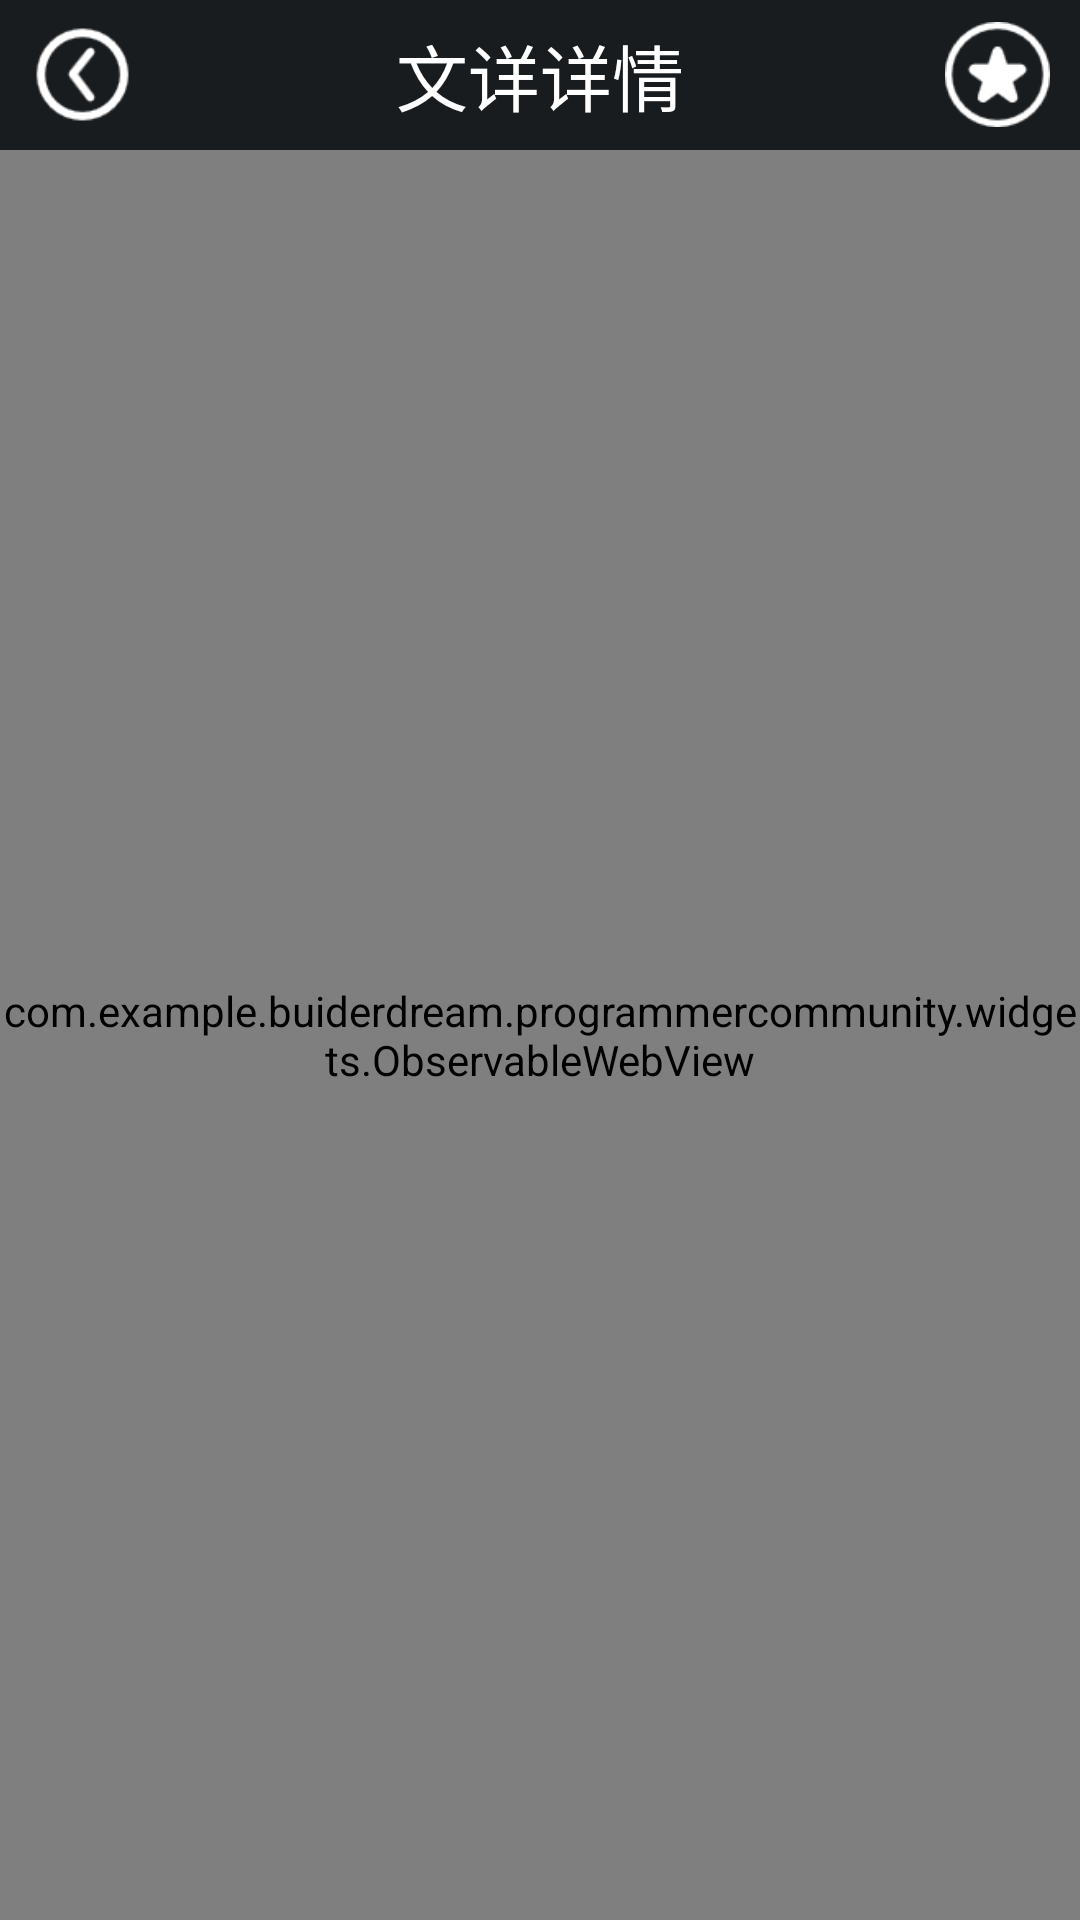

Icon click points for this 1080 × 1920 phone screenshot, format [x,y]:
back: [82,74]
collection: [997,74]
